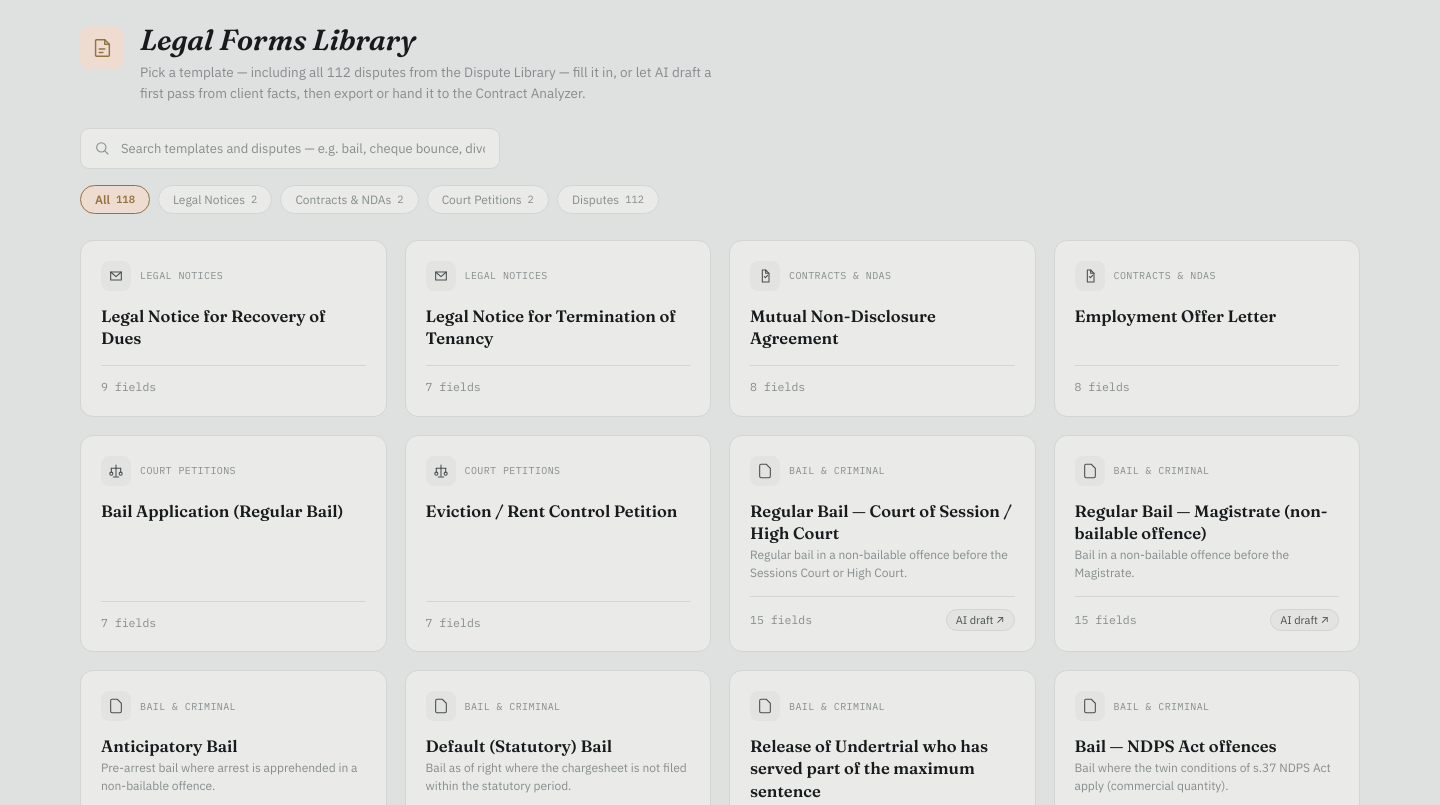
Test: Legal Forms Library › filters the grid when the Court Petitions category tab is clicked
Check: the heading "Legal Forms Library" is shown, box x1=140 y1=22 x2=416 y2=57
Click the button "Court Petitions 2". click: [488, 199]
box: x1=427 y1=185 x2=549 y2=214
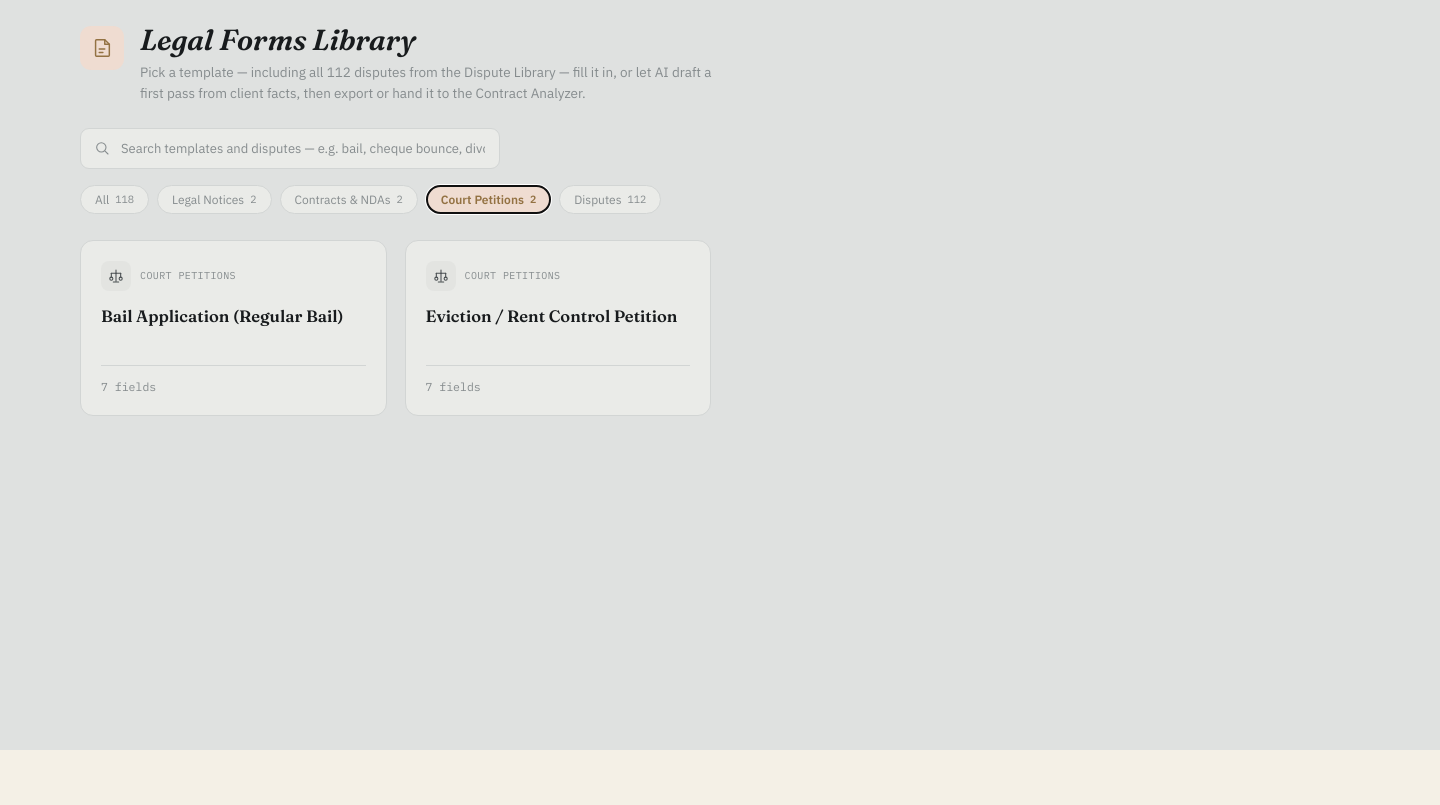
Check: the text "Mutual Non-Disclosure Agreement" is gone
